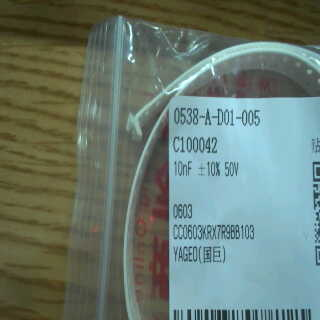10nF: (171, 157, 196, 181)
